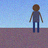person: (30, 4, 42, 32)
